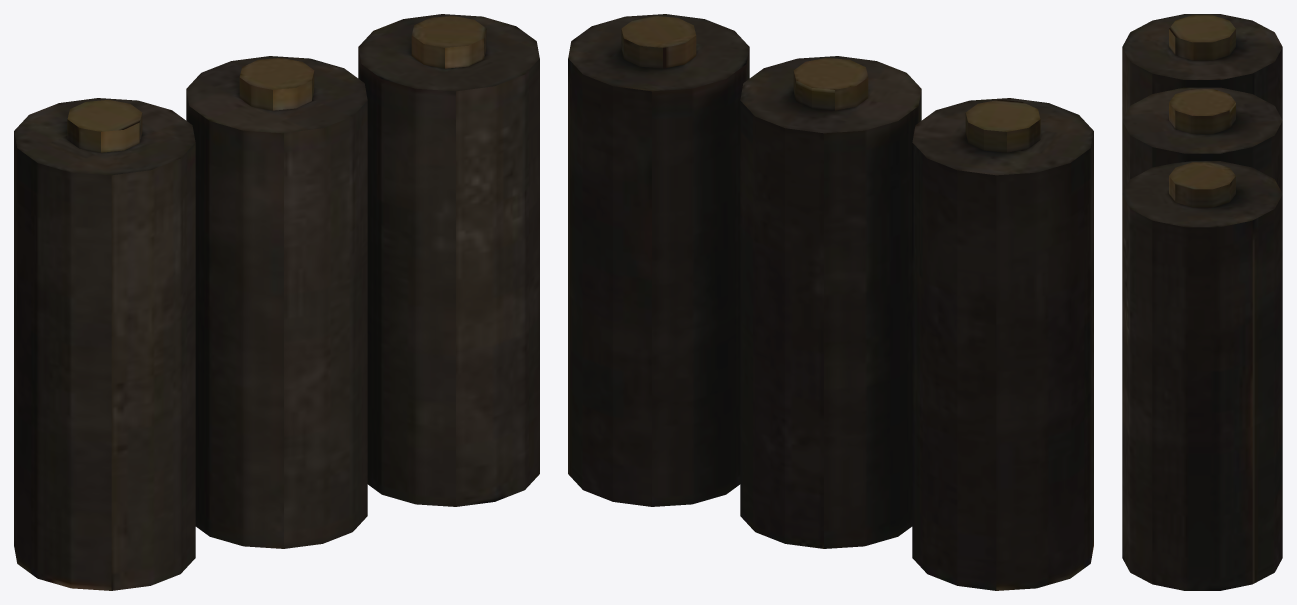
File: cantina_prop_containers_B.glb
The picture shows the model from 3 angles, left to right: view 1: azimuth 30°, elevation 25°; view 2: azimuth 150°, elevation 25°; view 3: azimuth 270°, elevation 25°; orthographic projection. The views are drawn at different scales.
Parts seen in each view (by area): view 1: cantina_prop_containers_B; view 2: cantina_prop_containers_B; view 3: cantina_prop_containers_B.
Part boxes in pixels (x1=…): cantina_prop_containers_B: x1=14, y1=14, x2=539, y2=590; cantina_prop_containers_B: x1=568, y1=14, x2=1093, y2=590; cantina_prop_containers_B: x1=1122, y1=14, x2=1282, y2=590.
Bounding box in the file's own units: 0.754 × 0.63 × 0.24.
Materials: 1 (1 with a texture image).
